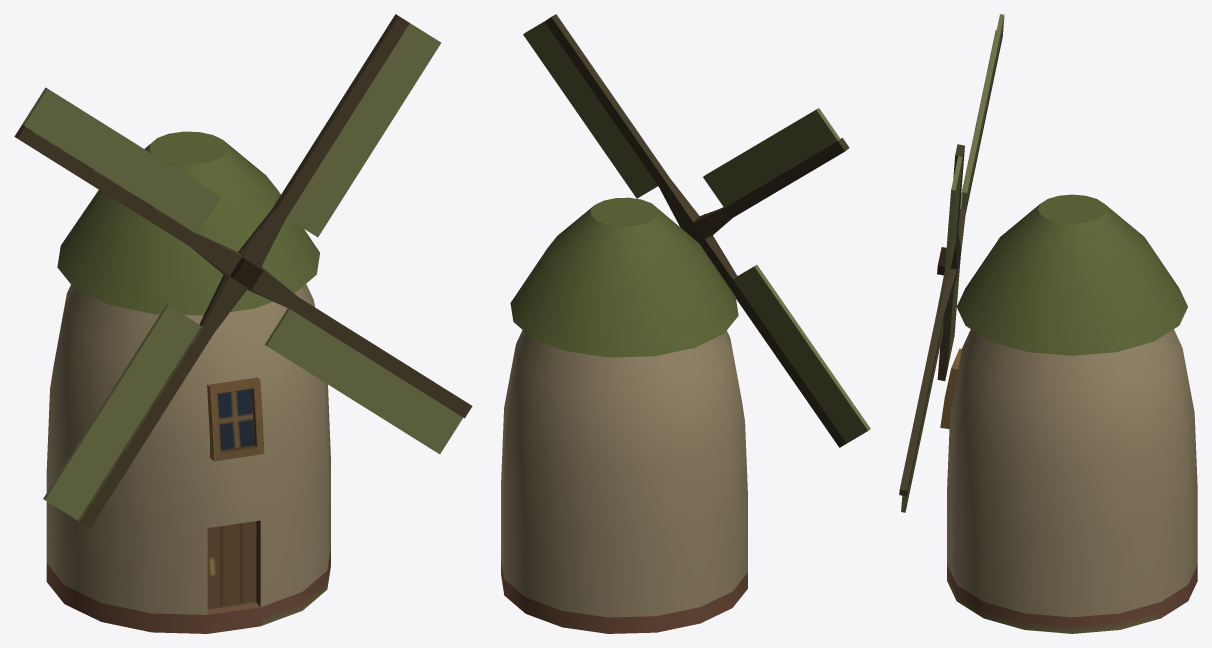
Rendered from Windmill.fbx.
The picture shows the model from 3 angles, left to right: view 1: azimuth 30°, elevation 25°; view 2: azimuth 150°, elevation 25°; view 3: azimuth 270°, elevation 25°; orthographic projection. The views are drawn at different scales.
Visible parts, largest first — view 1: Windmill; view 2: Windmill; view 3: Windmill.
Part boxes in pixels (<box>): Windmill: <box>14,14,472,633</box>; Windmill: <box>501,14,870,633</box>; Windmill: <box>899,14,1197,633</box>.
Size of the model in its own units: 534 by 726 by 394.
